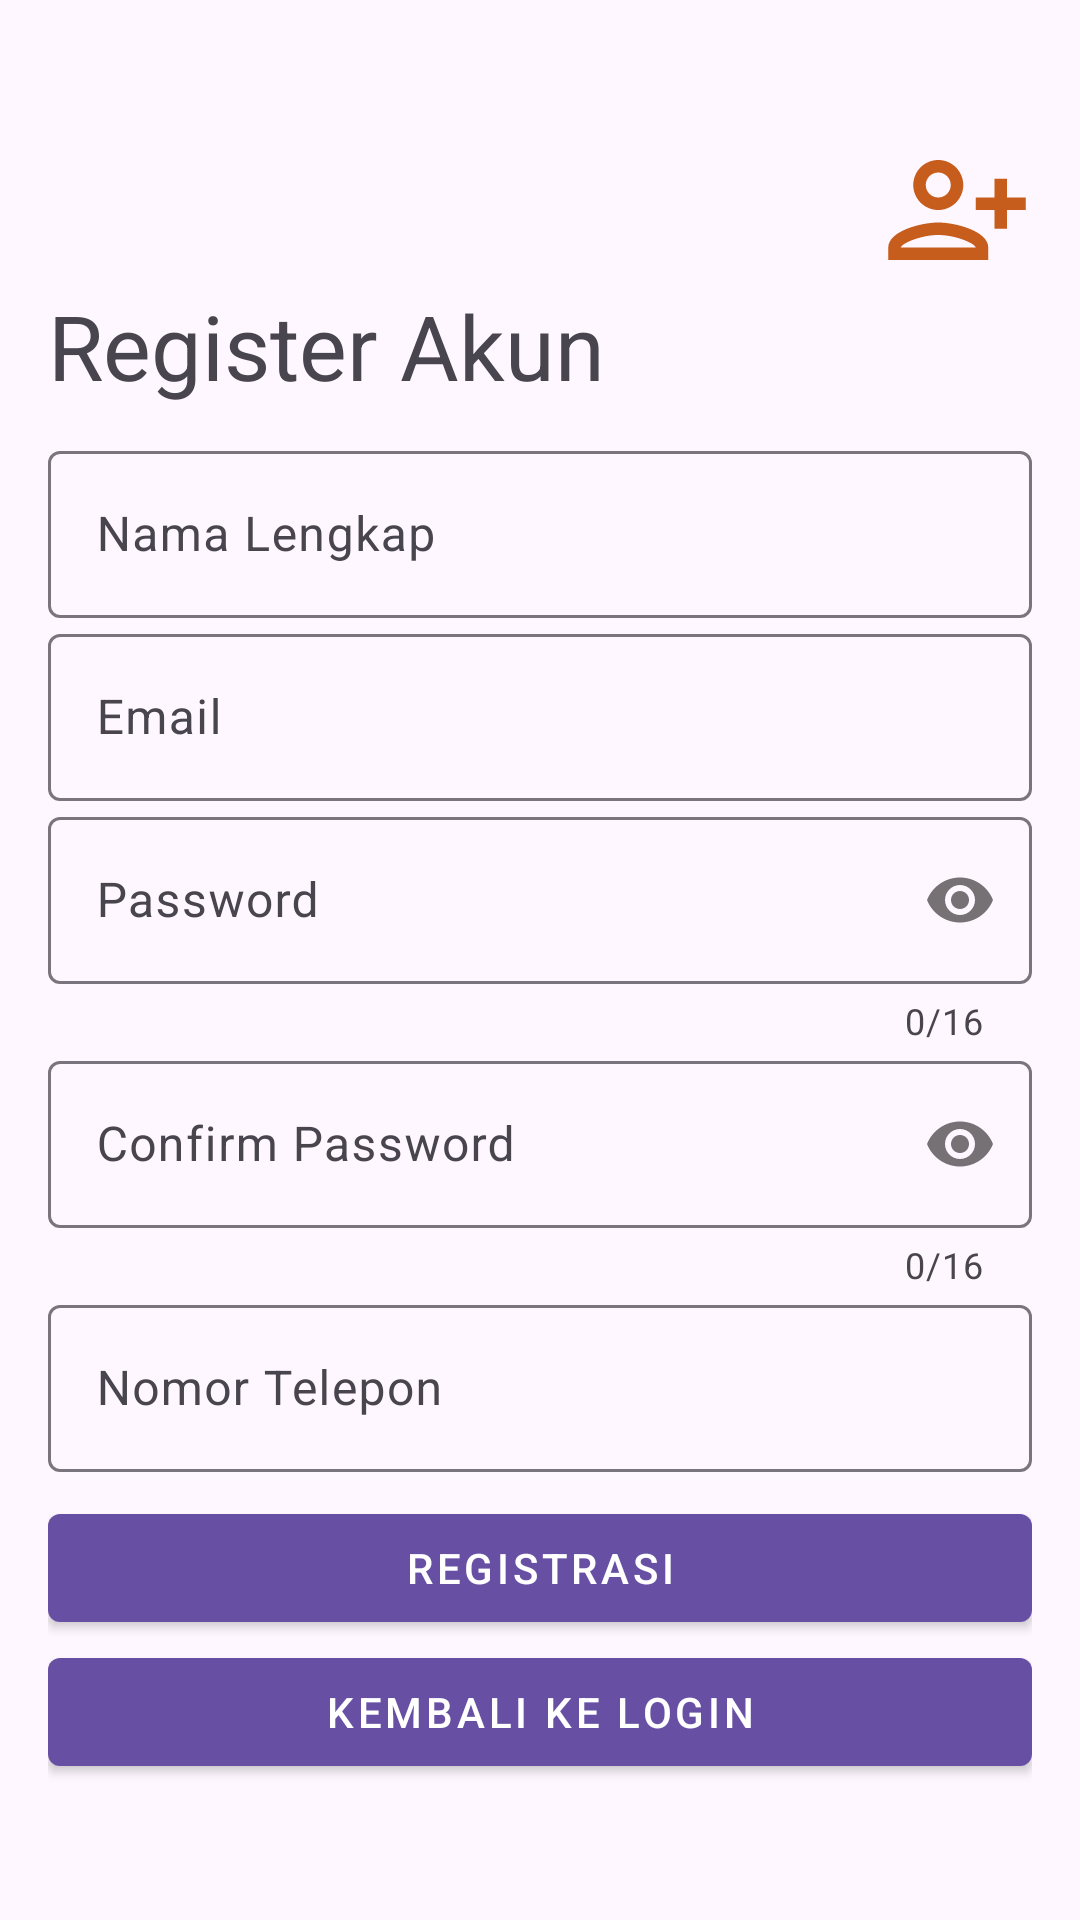

Point at icon controls on the screen. Image size 1080 × 1920, points as (x,y).
person add: (957,210)
